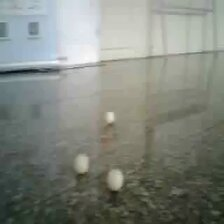w: (107, 169, 123, 189), (73, 154, 89, 173), (105, 111, 115, 123)
